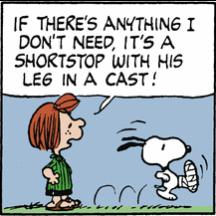snoopy: (115, 133, 201, 203)
